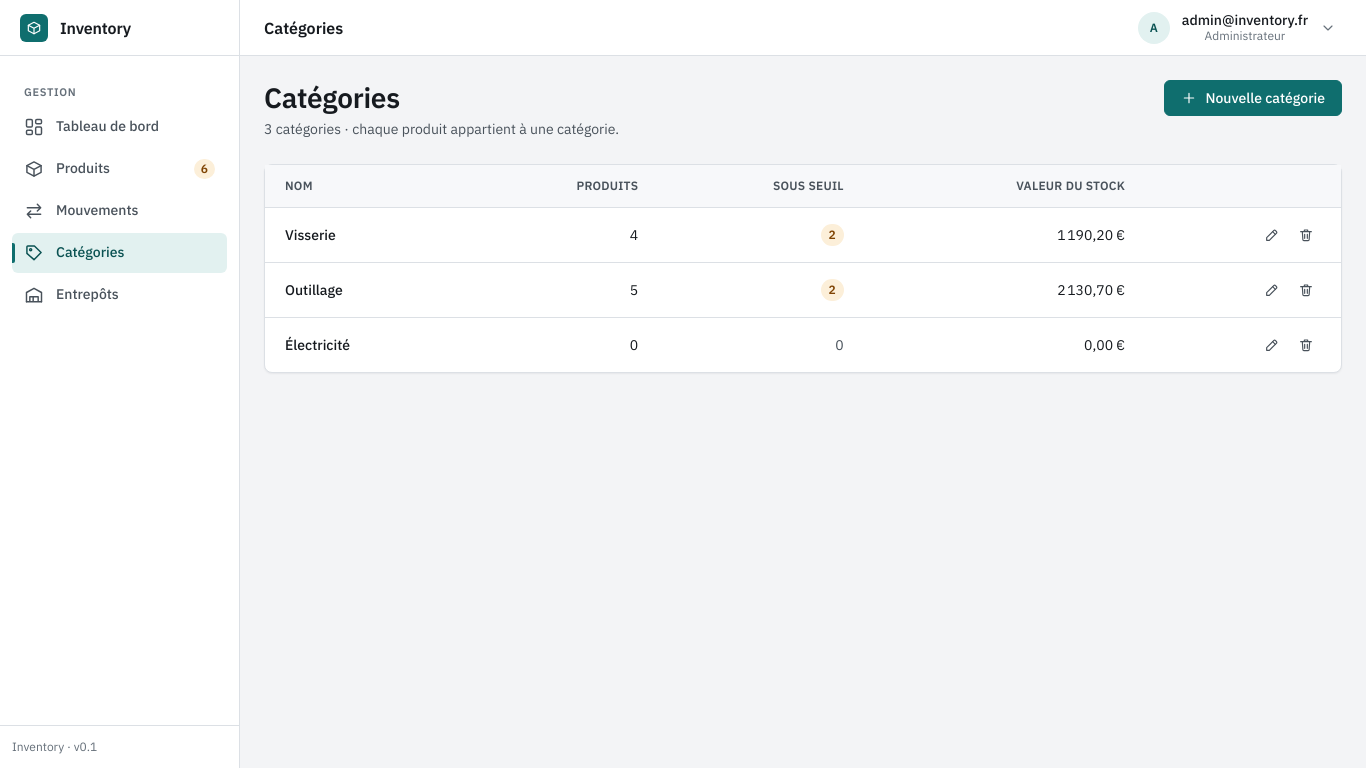
it: CategoriesPage › create and edit › creates a category with the trimmed name
Check: the heading "Catégories" is shown, box [264, 79, 400, 116]
Click the button "Nouvelle catégorie": (1253, 98) [1164, 80, 1342, 116]
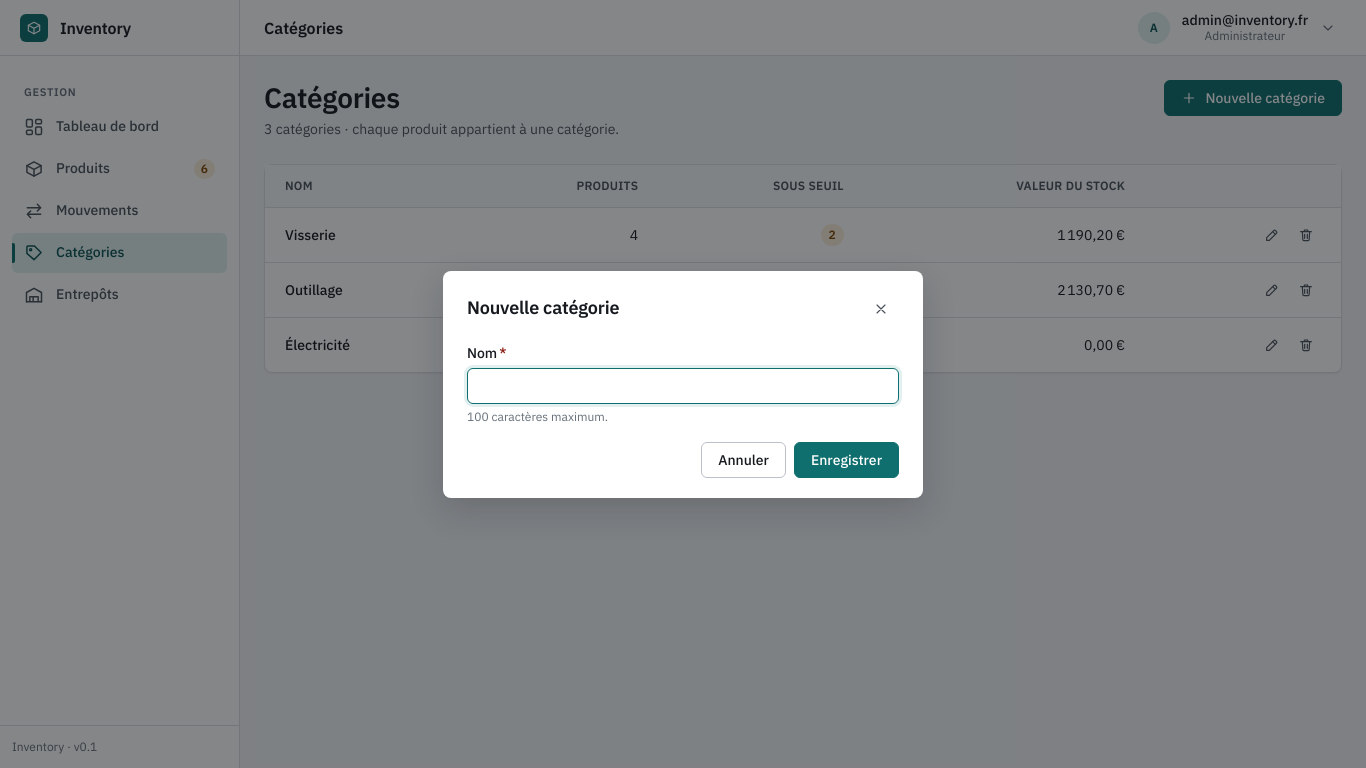
Check: the field labelled "Nom*" is empty
In the field labelled "Nom*": (683, 386) [467, 368, 899, 404], type "  Quincaillerie  "
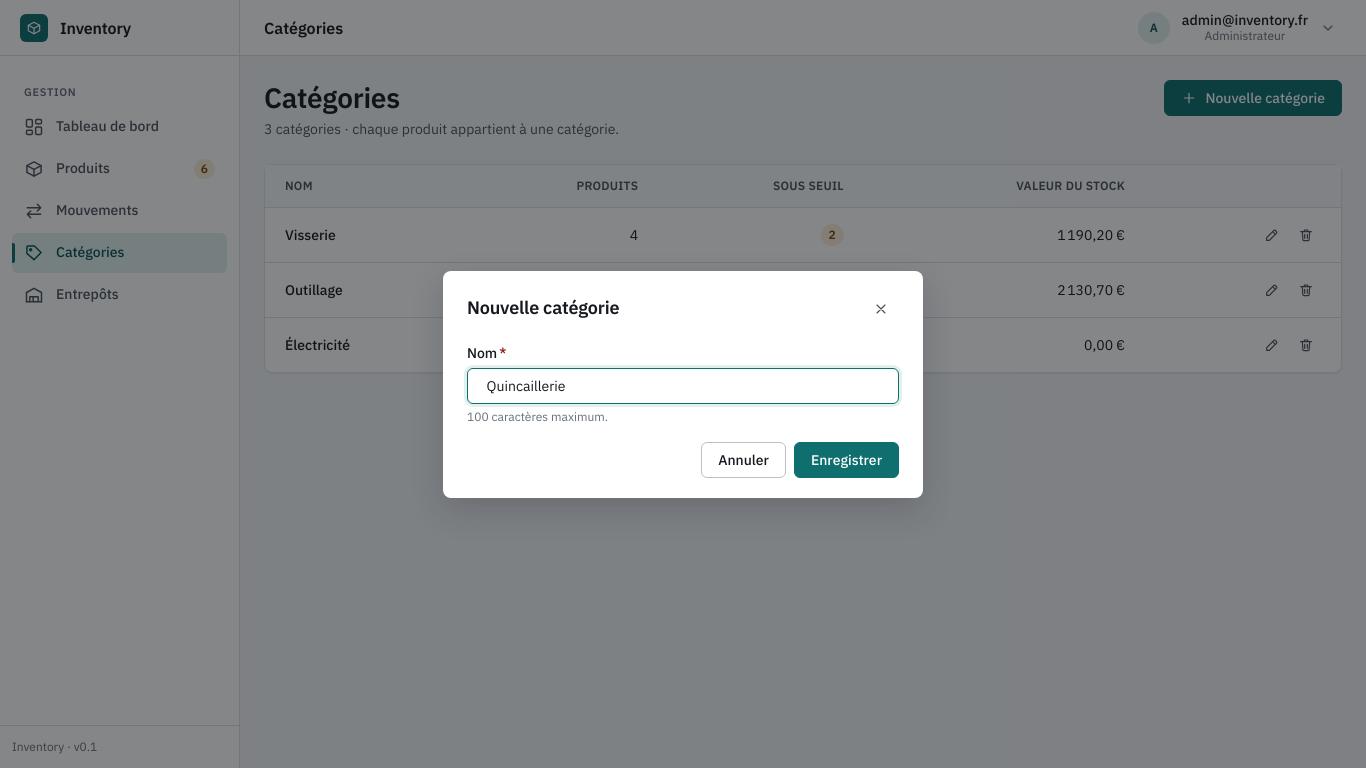
Click the button "Enregistrer": (846, 460) [794, 442, 899, 478]
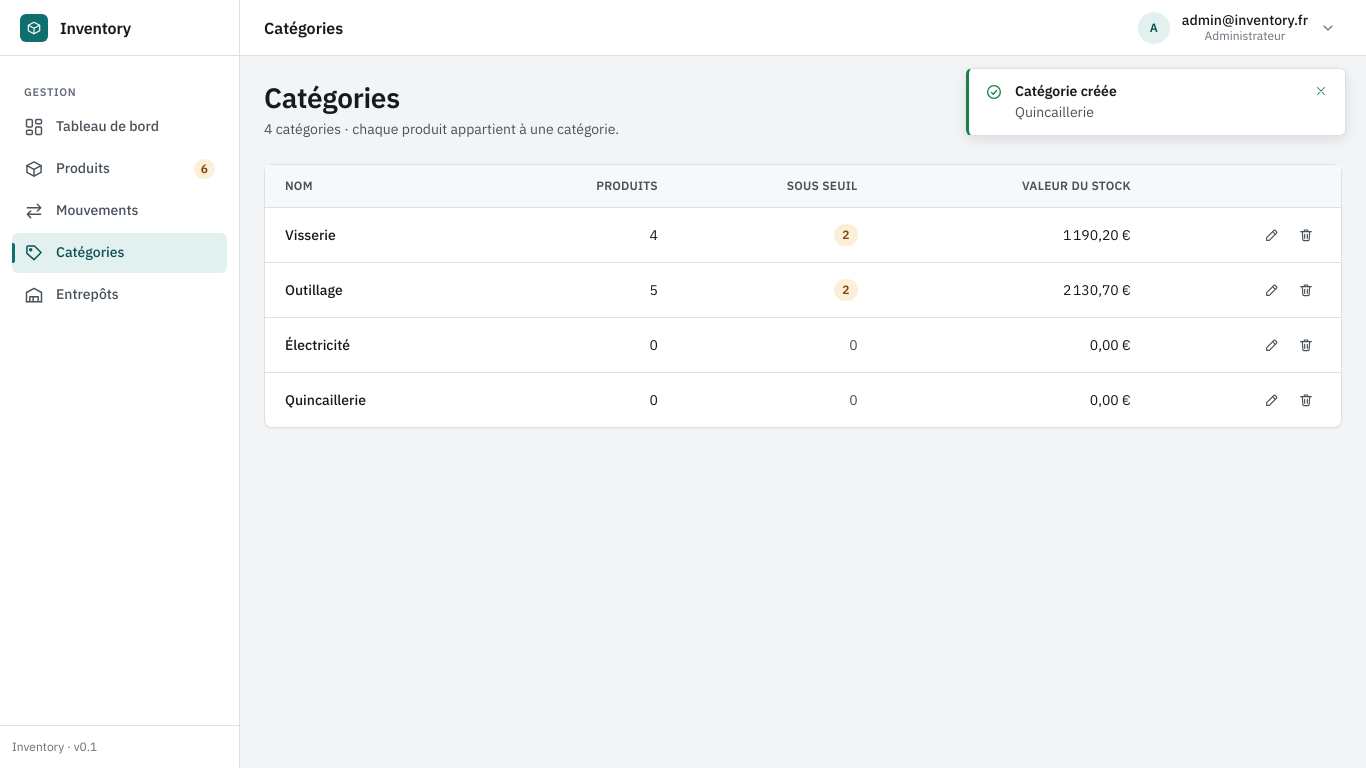
Check: the message shows "Catégorie créée", box [1015, 82, 1117, 100]
Check: the message shows "Quincaillerie", box [1015, 103, 1094, 121]
Check: the text "4 catégories · chaque produit appartient à une catégorie." is shown, box [264, 119, 619, 140]
